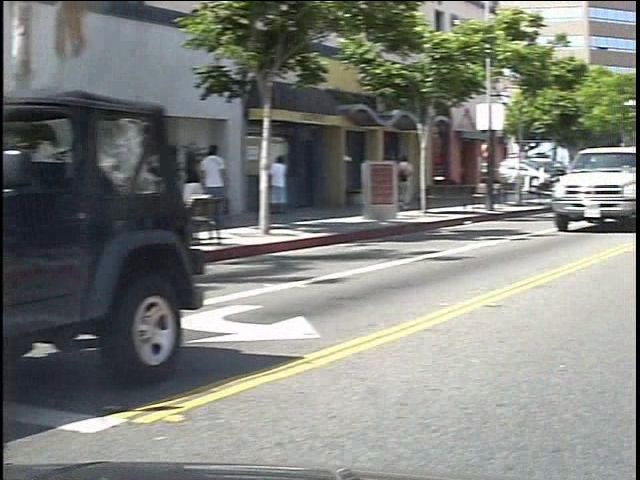person: (213, 142, 253, 235), (283, 143, 307, 226), (412, 153, 431, 214)
